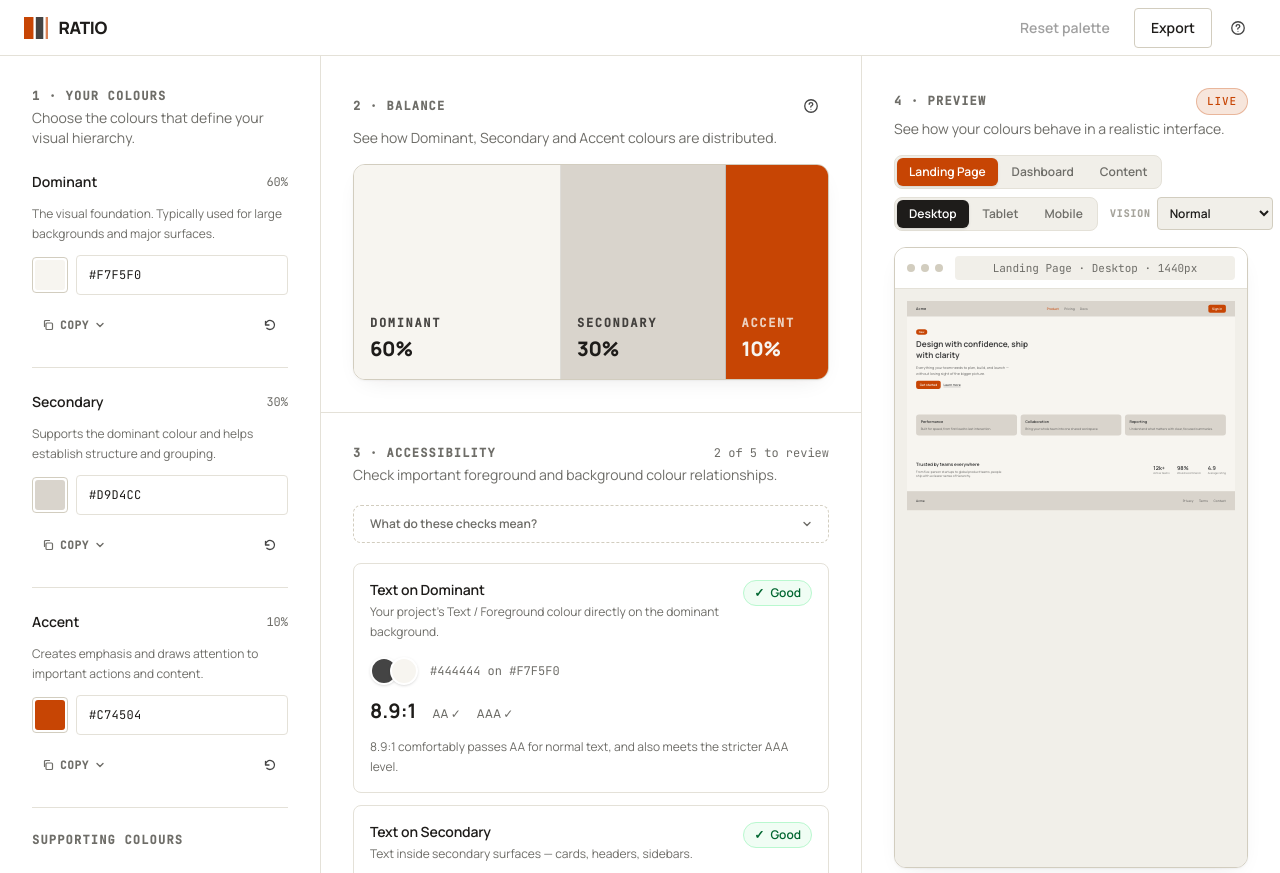
WorkspaceShell › only enables Reset after a real change, and restores defaults on confirm
Expected: the button "Reset palette" is disabled, left=1004, top=8, right=1126, bottom=48
Replace the text in the 3rd field named "Accent hex value" with "#00A86B". click: {"x": 182, "y": 715}
box: left=76, top=695, right=288, bottom=735
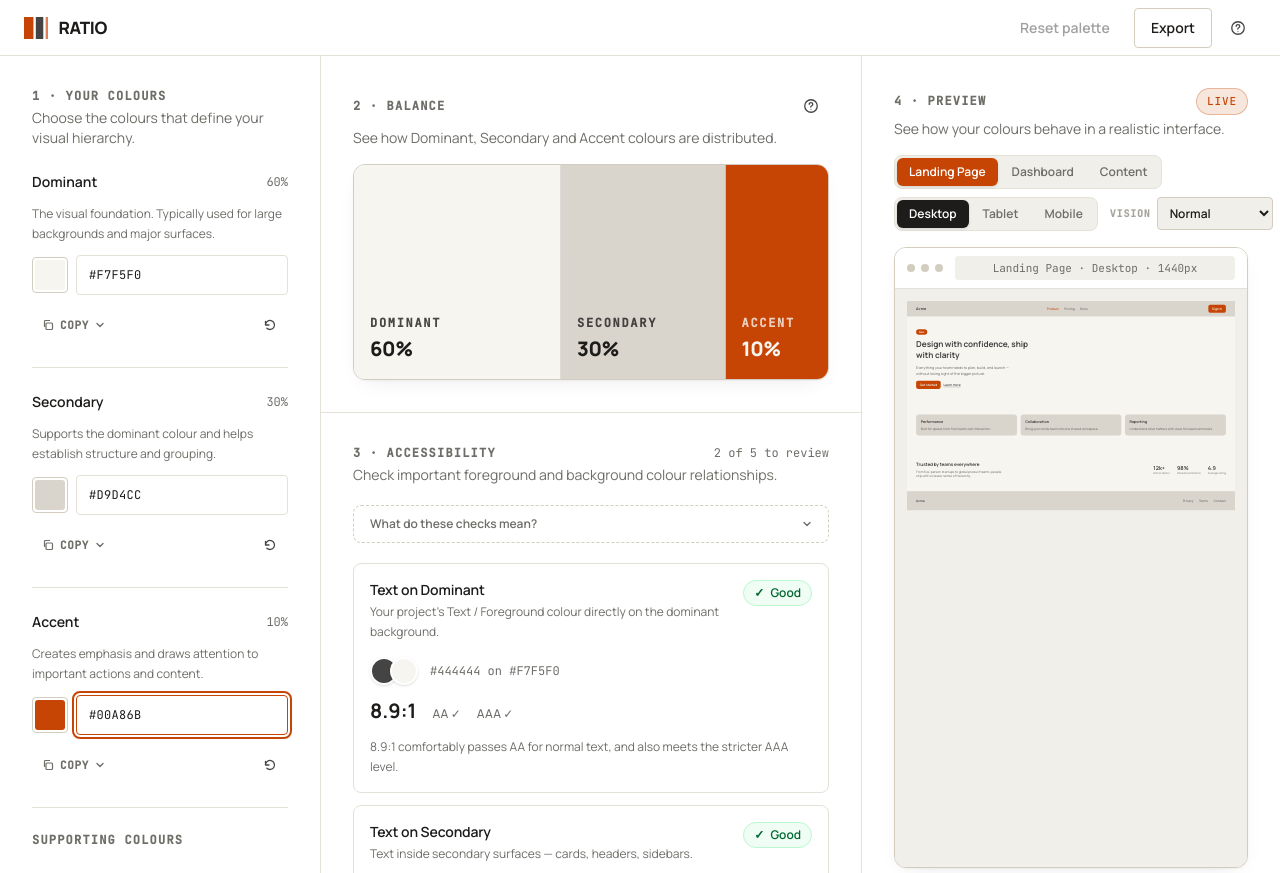
Press Tab
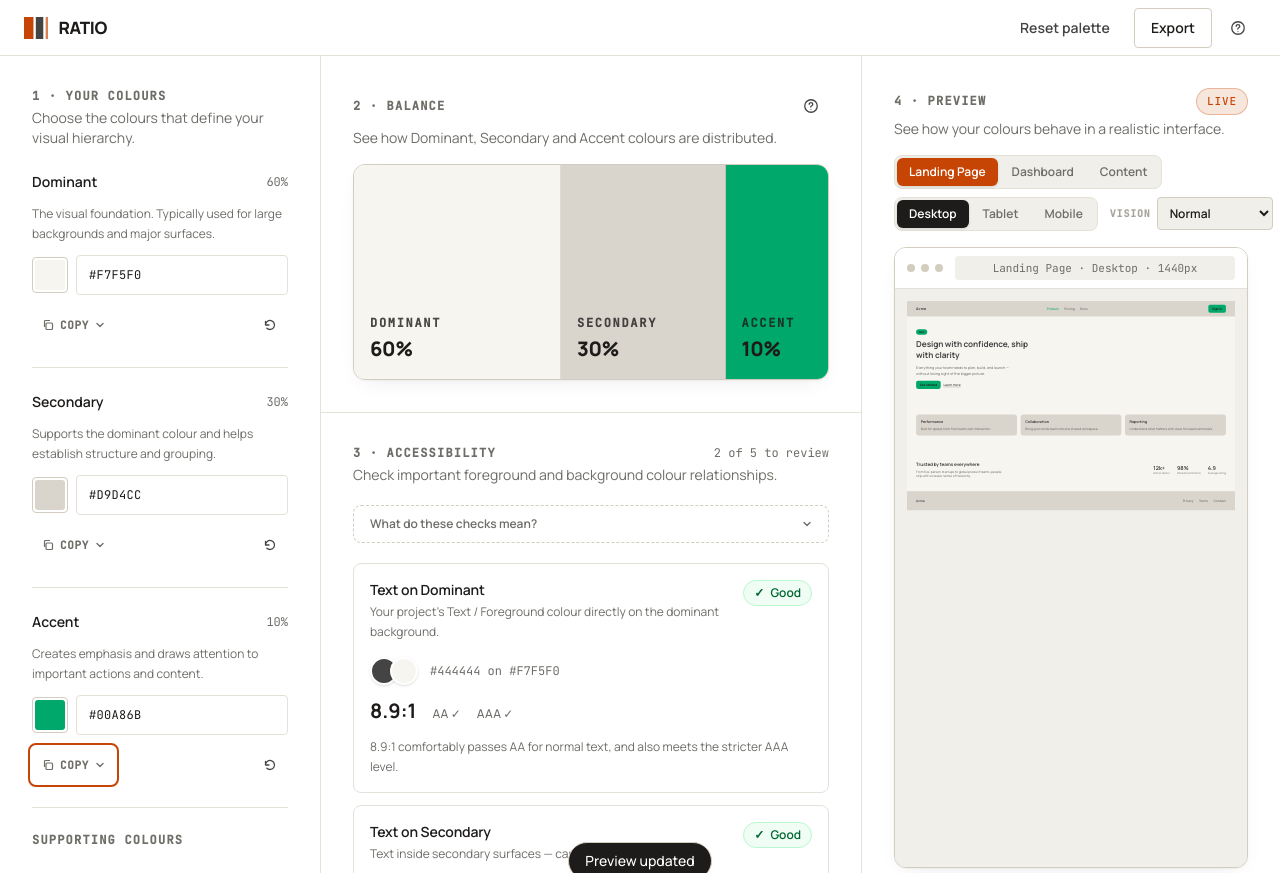
Result: the button "Reset palette" is enabled
Click the button "Reset palette". click: {"x": 1065, "y": 28}
box: left=1004, top=8, right=1126, bottom=48
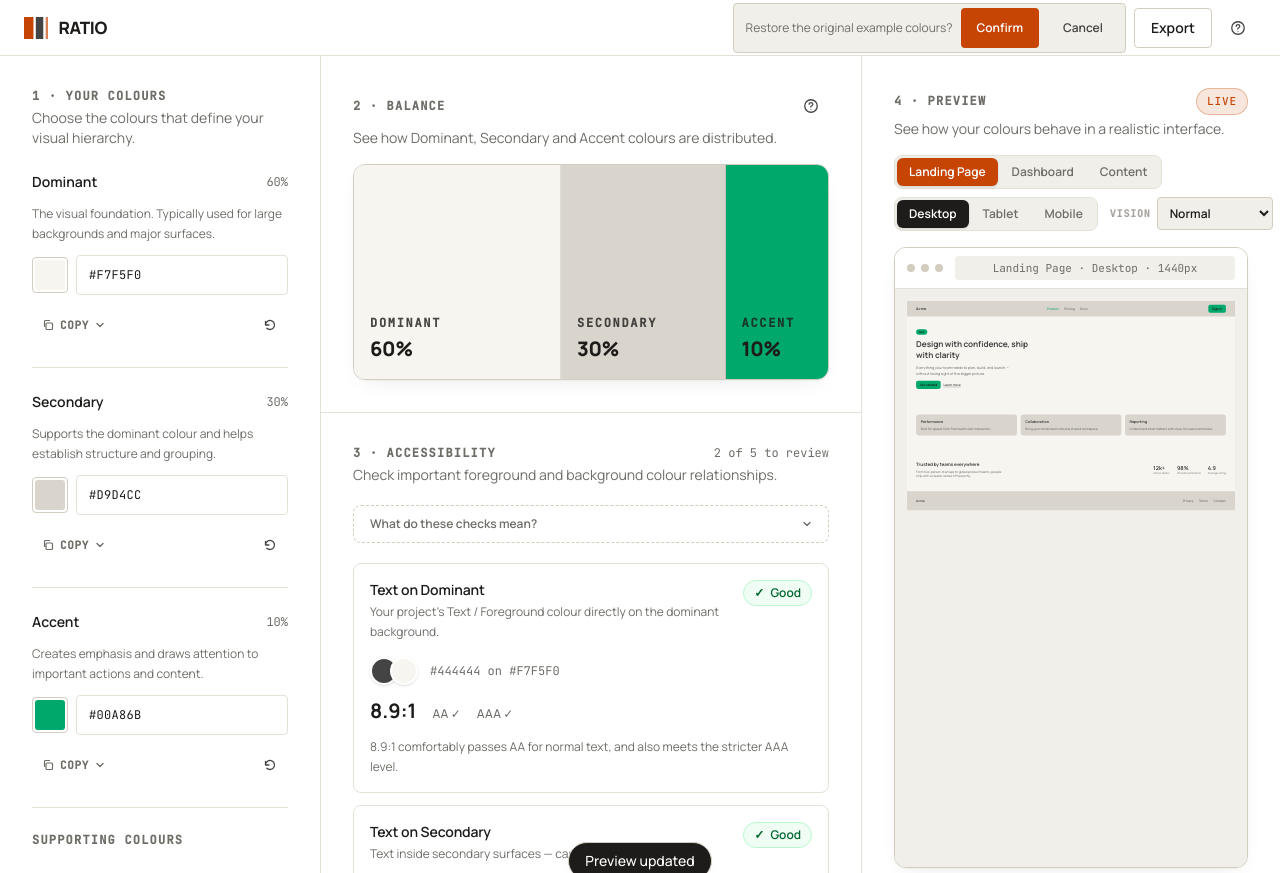
Result: the text "Restore the original example colours?" is shown at left=746, top=20, right=952, bottom=36
Click the button "Confirm". click: {"x": 1000, "y": 28}
box: left=960, top=8, right=1039, bottom=48
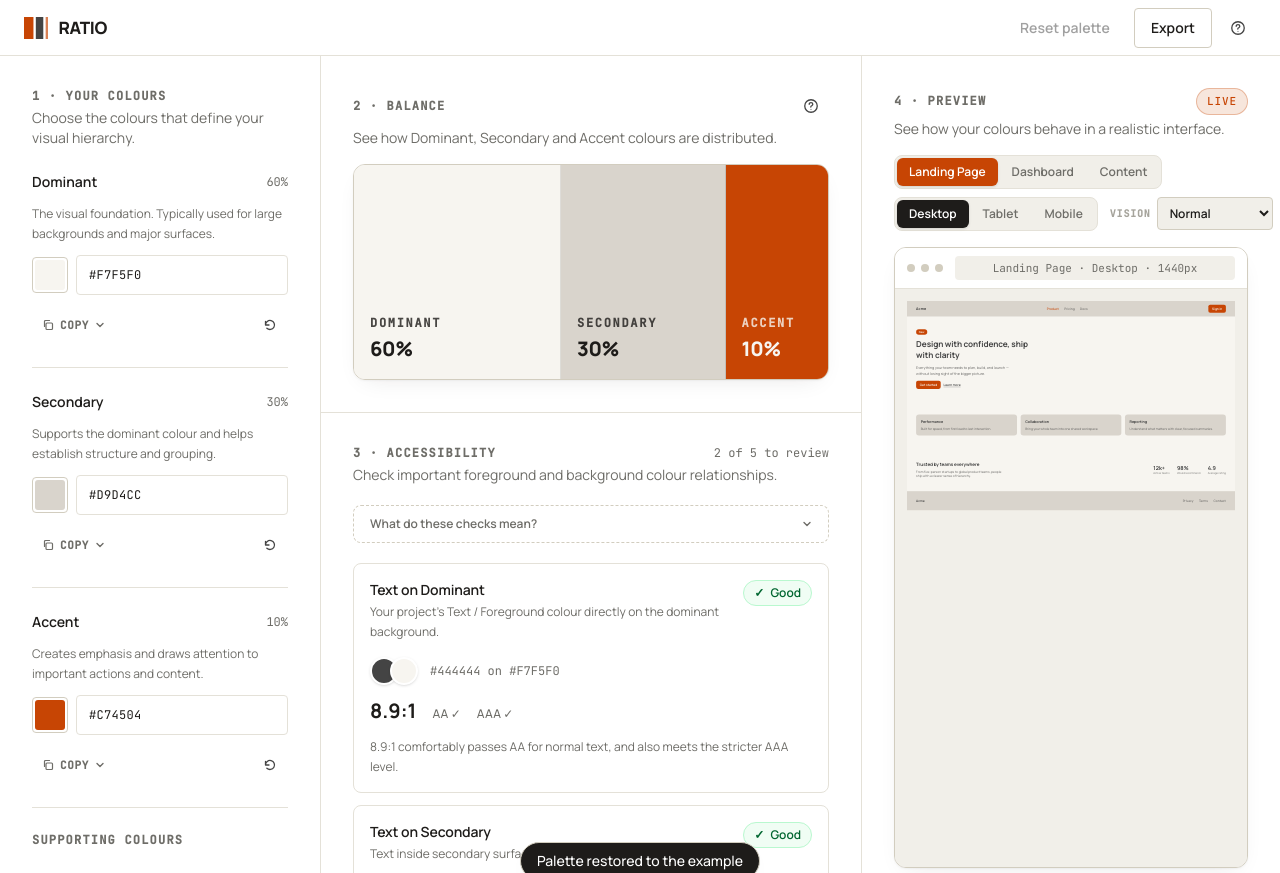
Expected: the picture named "60% Dominant, #F7F5F0" is shown, left=353, top=164, right=829, bottom=380
Result: the button "Reset palette" is disabled at left=1004, top=8, right=1126, bottom=48
